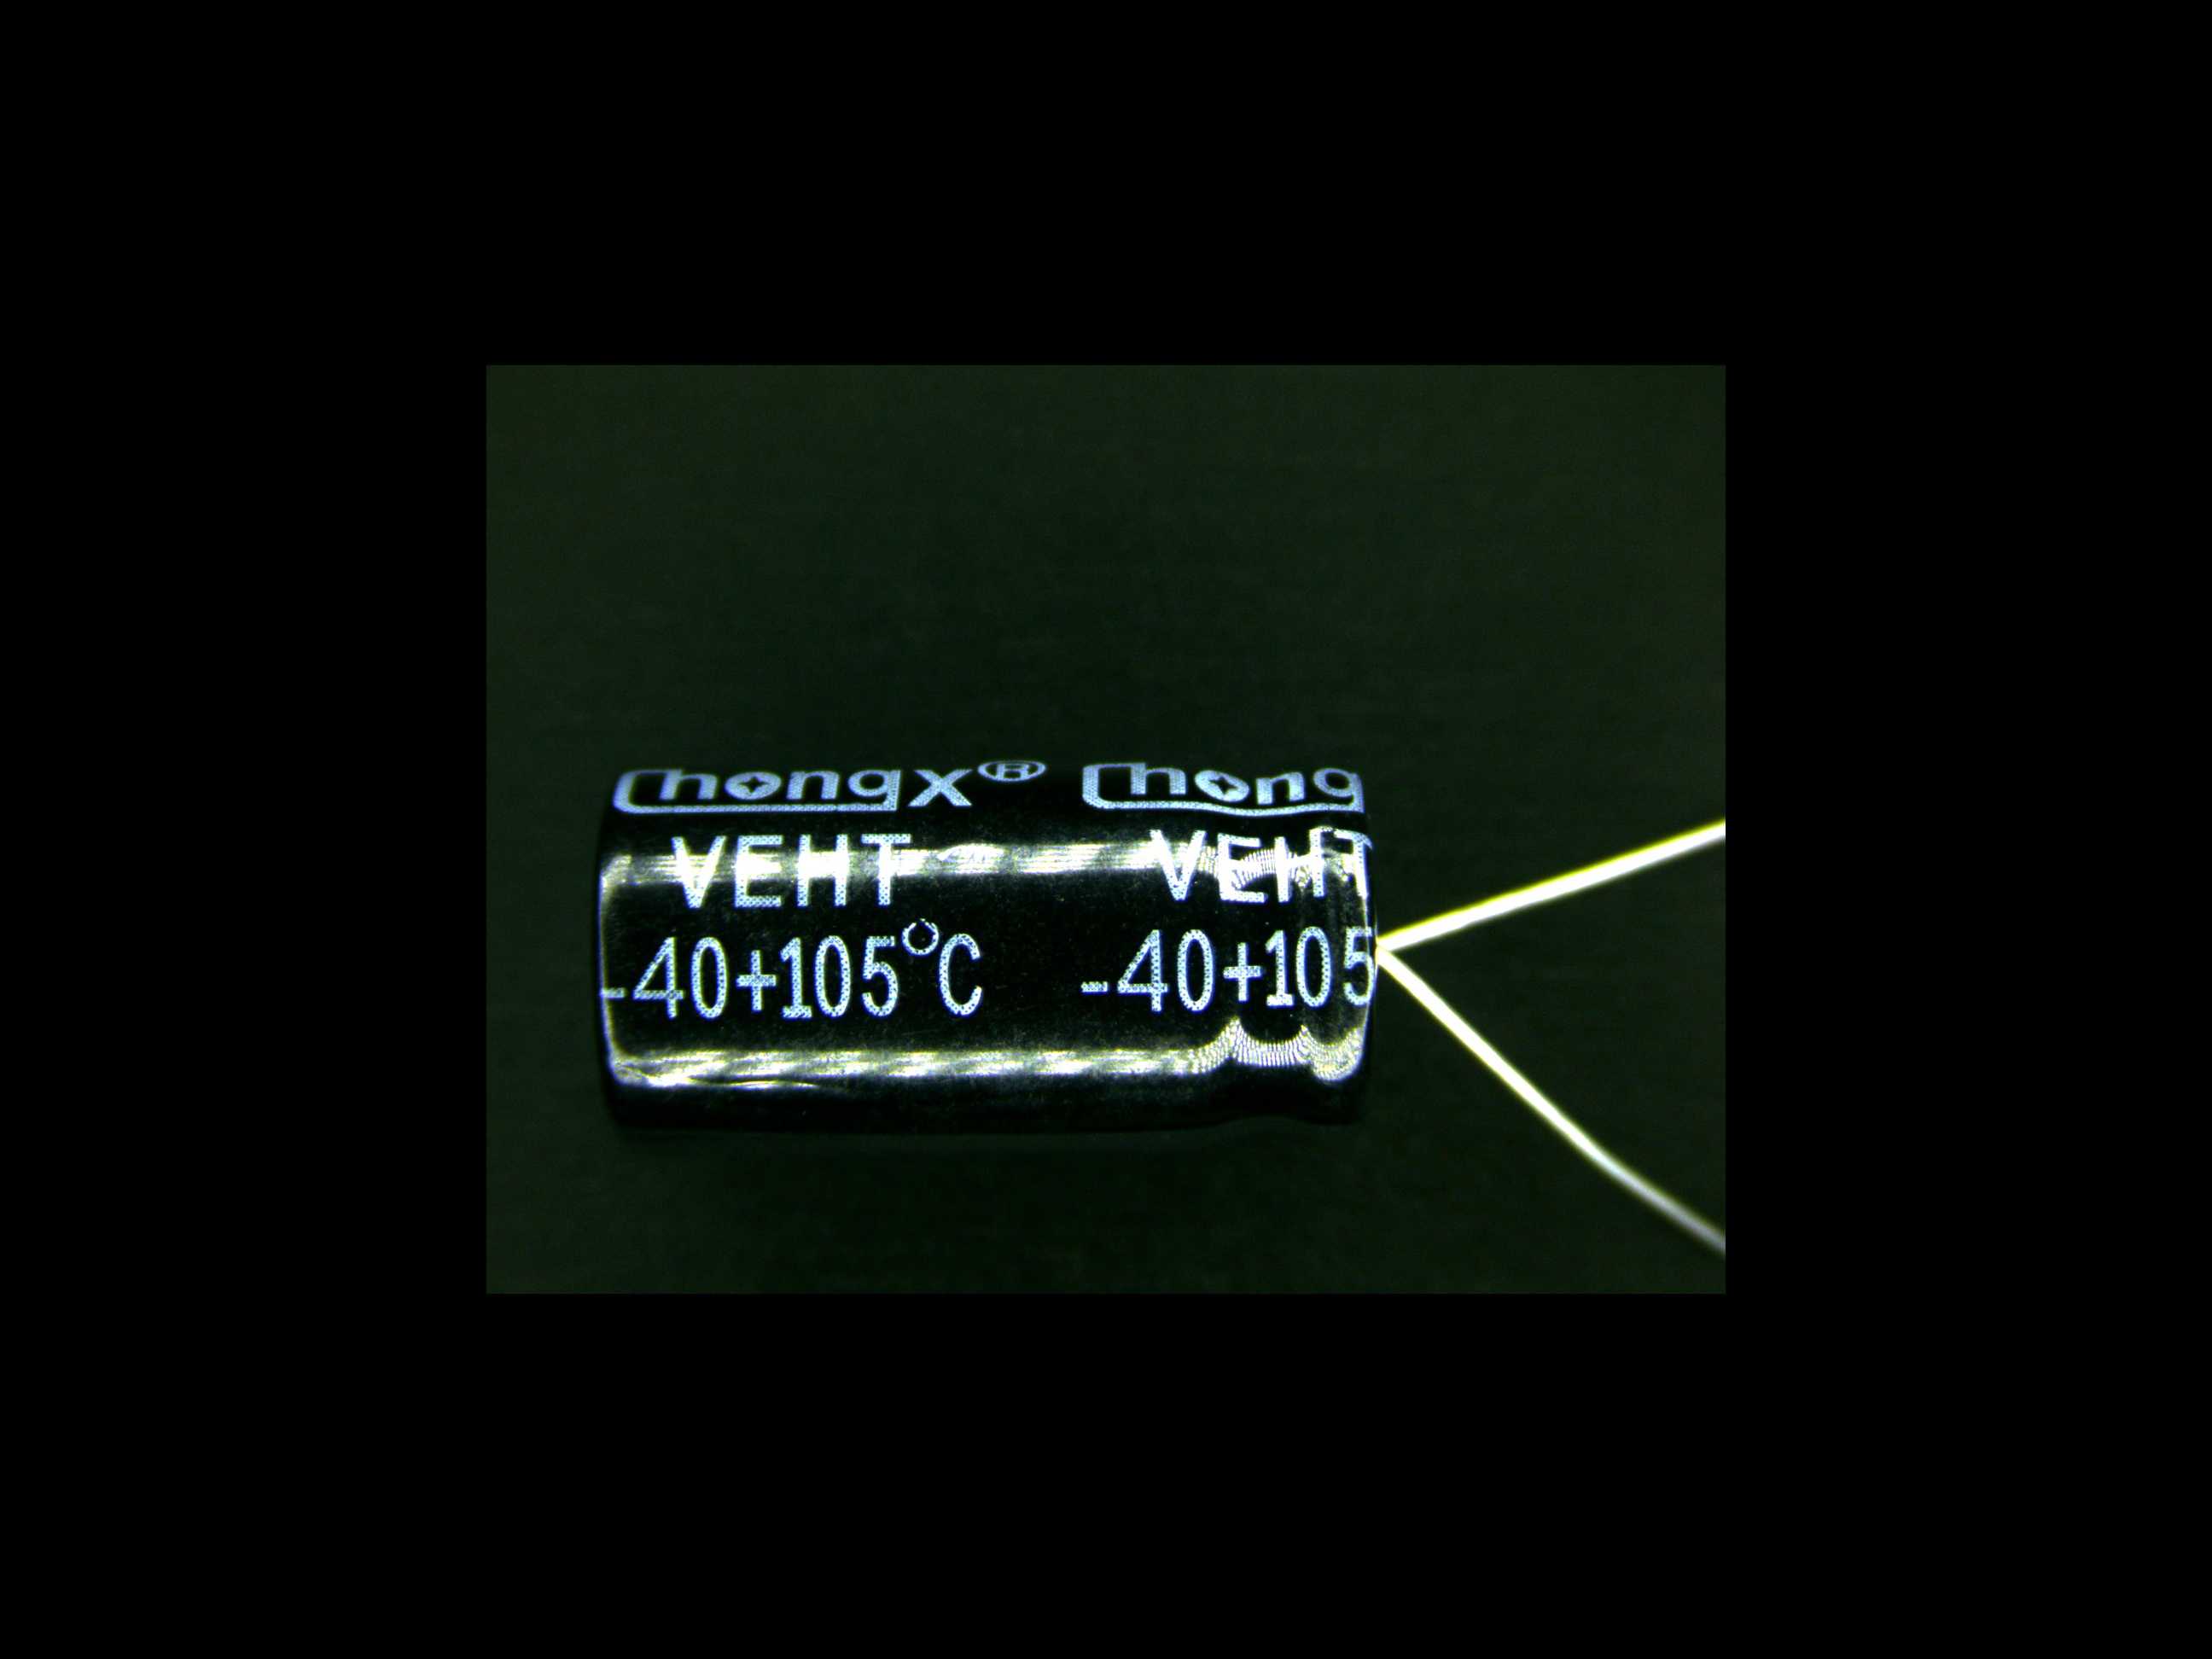c3: (589, 762, 1545, 1127)
